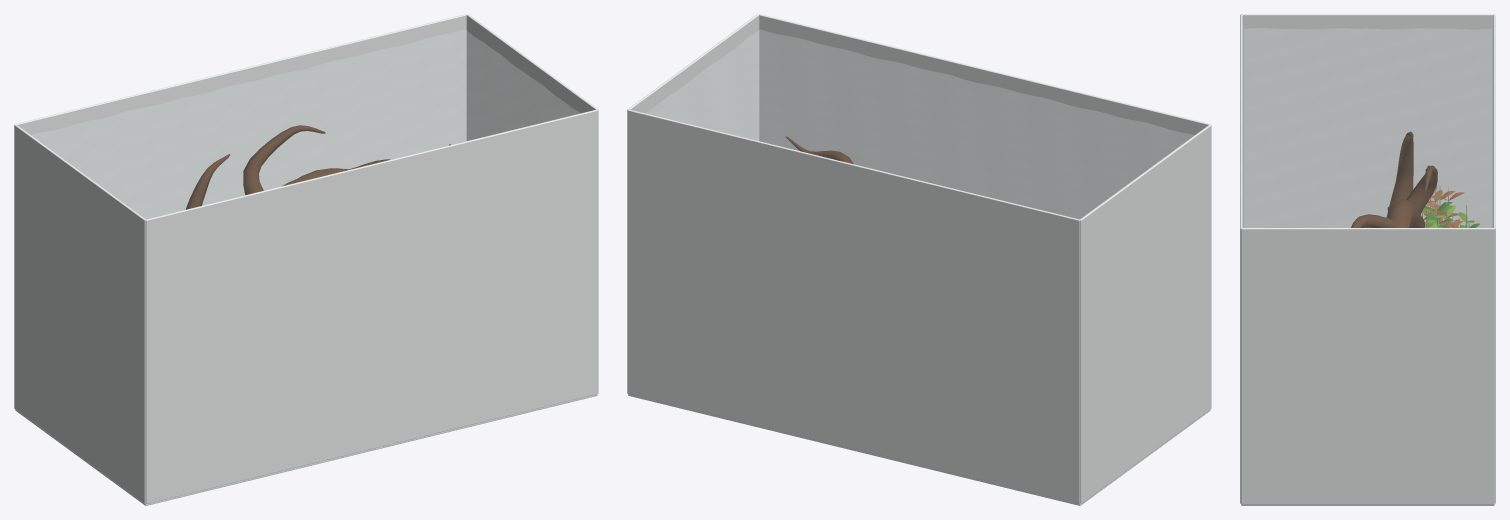
The model's file is aquarium.glb.
3 views of the same model, side by side, from view 1: azimuth 30°, elevation 25°; view 2: azimuth 150°, elevation 25°; view 3: azimuth 270°, elevation 25° (orthographic). The views are drawn at different scales.
Parts seen in each view (by area): view 1: tank.glass.front, water.surface, tank.glass.back, tank.glass.left, tank.glass.right, hardscape.wood.arch, tank.glass.base; view 2: tank.glass.back, tank.glass.front, water.surface, tank.glass.left, tank.glass.right, tank.glass.base; view 3: tank.glass.right, tank.glass.left, water.surface, hardscape.wood.arch, tank.glass.back, tank.glass.front, plants.stem.015, tank.glass.base, plants.stem.009.
Part boxes in pixels (box(x1,y1,x2,y2)): tank.glass.front: box(145, 109, 598, 503); water.surface: box(32, 30, 579, 218); tank.glass.back: box(15, 14, 466, 219); tank.glass.left: box(14, 124, 145, 503); tank.glass.right: box(466, 14, 598, 392); hardscape.wood.arch: box(185, 125, 450, 209); tank.glass.base: box(15, 394, 597, 505); tank.glass.back: box(627, 109, 1080, 503); tank.glass.front: box(759, 14, 1210, 219); water.surface: box(647, 30, 1193, 218); tank.glass.left: box(1080, 124, 1211, 503); tank.glass.right: box(627, 14, 759, 392); tank.glass.base: box(628, 394, 1210, 505); tank.glass.right: box(1241, 228, 1494, 504); tank.glass.left: box(1241, 14, 1494, 227); water.surface: box(1244, 28, 1491, 227); hardscape.wood.arch: box(1351, 131, 1437, 227); tank.glass.back: box(1493, 14, 1495, 503); tank.glass.front: box(1240, 14, 1242, 503); plants.stem.015: box(1422, 185, 1464, 227); tank.glass.base: box(1241, 504, 1494, 505); plants.stem.009: box(1423, 195, 1455, 227).
Size of the model in its own units: 0.603 by 0.363 by 0.303.
